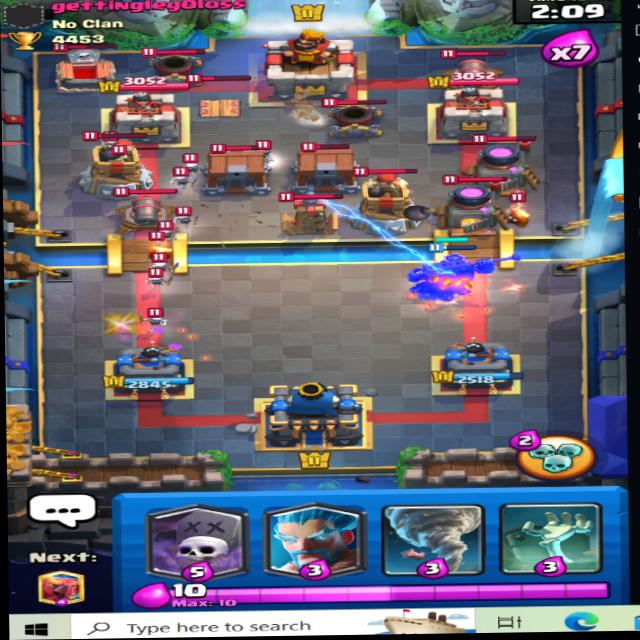bomb-tower: (350, 161, 432, 235), (80, 126, 155, 202)
cannon: (436, 46, 512, 92), (109, 186, 174, 233)
fire-spirit: (499, 203, 539, 229), (141, 236, 178, 261)
furnace: (463, 129, 551, 201), (435, 170, 517, 236)
goblin-cage: (291, 138, 361, 196), (201, 141, 277, 191)
mortar: (142, 36, 213, 85), (319, 95, 386, 141)
skeleton: (140, 294, 174, 328), (152, 218, 186, 245), (139, 263, 170, 292), (175, 152, 209, 176), (138, 255, 171, 279), (171, 204, 202, 229), (164, 163, 195, 185)
tesla-closed: (178, 69, 256, 121), (276, 190, 346, 237)
tombstone: (43, 31, 130, 91)
trail: (275, 85, 327, 129)
